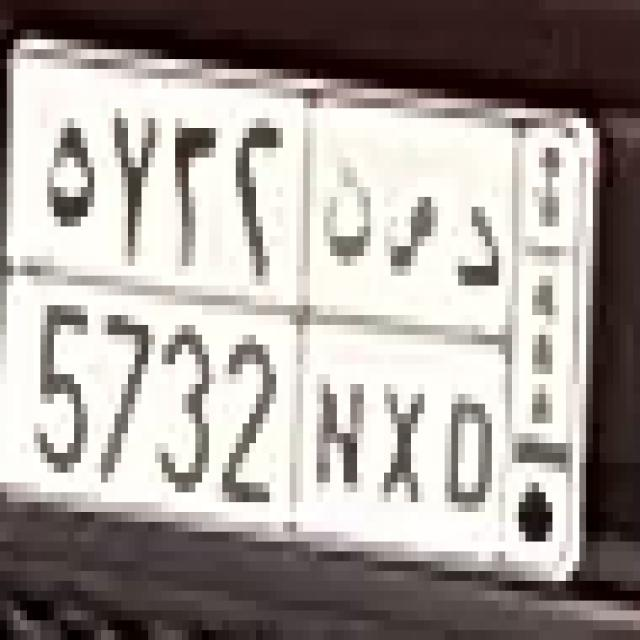license_plate: (7, 36, 593, 578)
